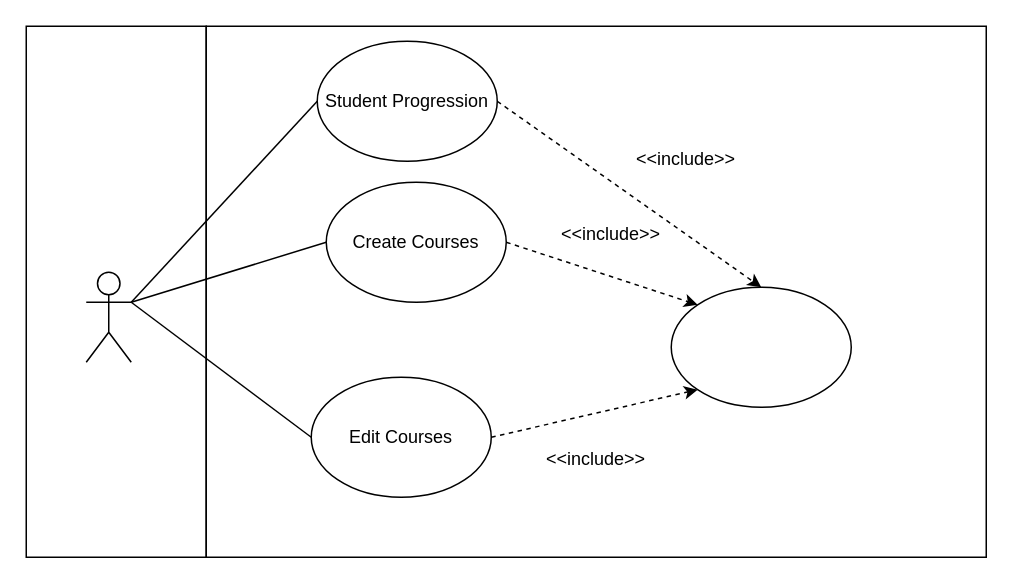
The diagram is 1013 pixels wide and 584 high, and some of its shapes have lost their labels. Each missing label, with the centre of its shape:
Login: [760,346]
Teacher: [108,316]
